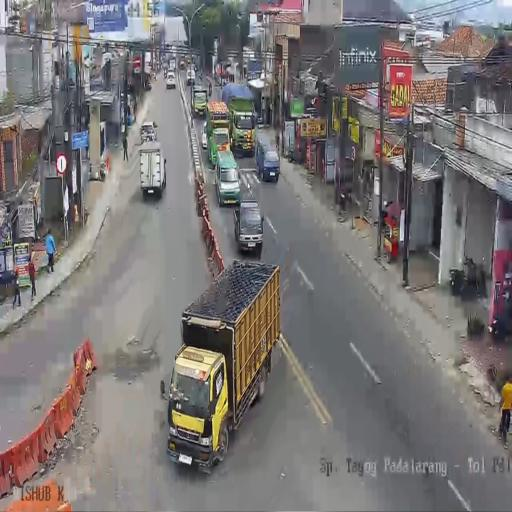car: (234, 200, 264, 255), (214, 150, 241, 208), (255, 135, 280, 182), (192, 86, 208, 116), (166, 70, 176, 89), (202, 120, 208, 150), (186, 68, 196, 85), (180, 59, 185, 69)
truck: (165, 257, 283, 472), (138, 140, 167, 200), (227, 96, 256, 156), (206, 99, 230, 147), (144, 51, 152, 76), (169, 57, 176, 70)
